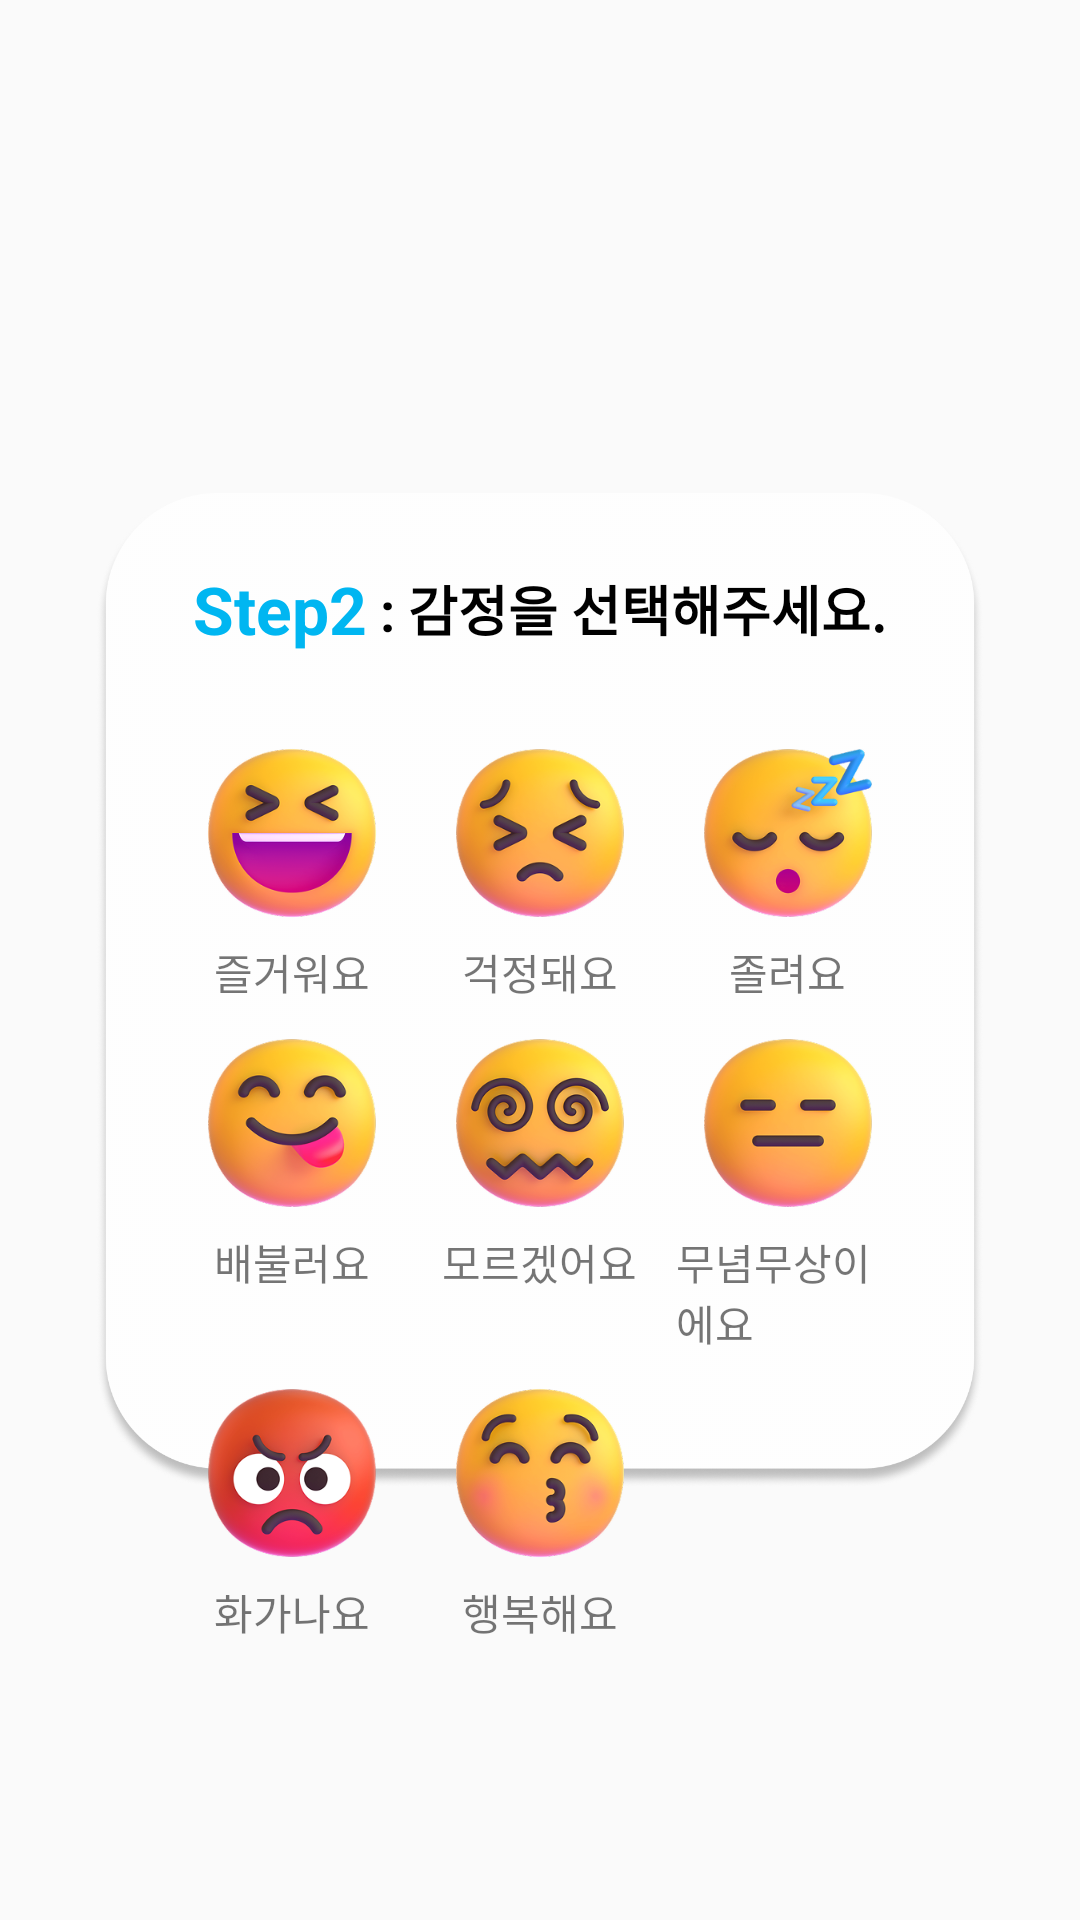

Where to tap for icons on this 1080x1920 app screen, as [x,y]:
emoji confused: [540,1123]
